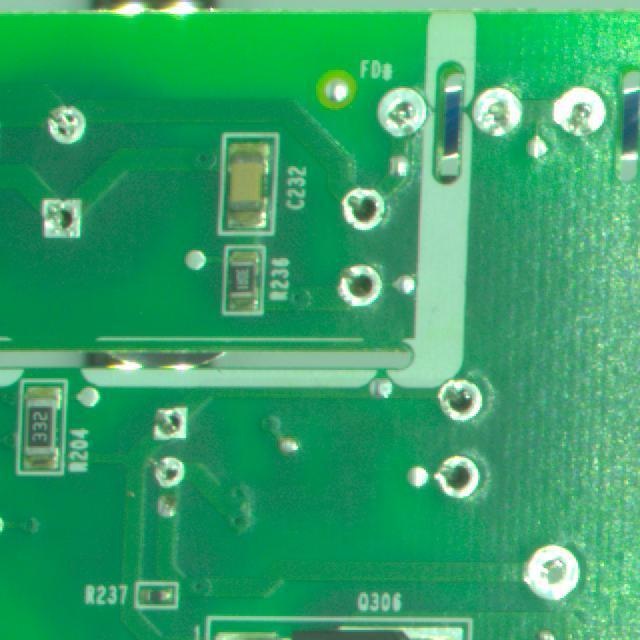Insufficient solder: (514, 537, 588, 609), (376, 84, 435, 147), (551, 85, 609, 144), (37, 192, 94, 252), (433, 449, 492, 502), (330, 255, 385, 310), (473, 84, 525, 141), (438, 369, 488, 426), (339, 182, 392, 232), (43, 100, 96, 141), (151, 452, 194, 493), (152, 402, 189, 442)
